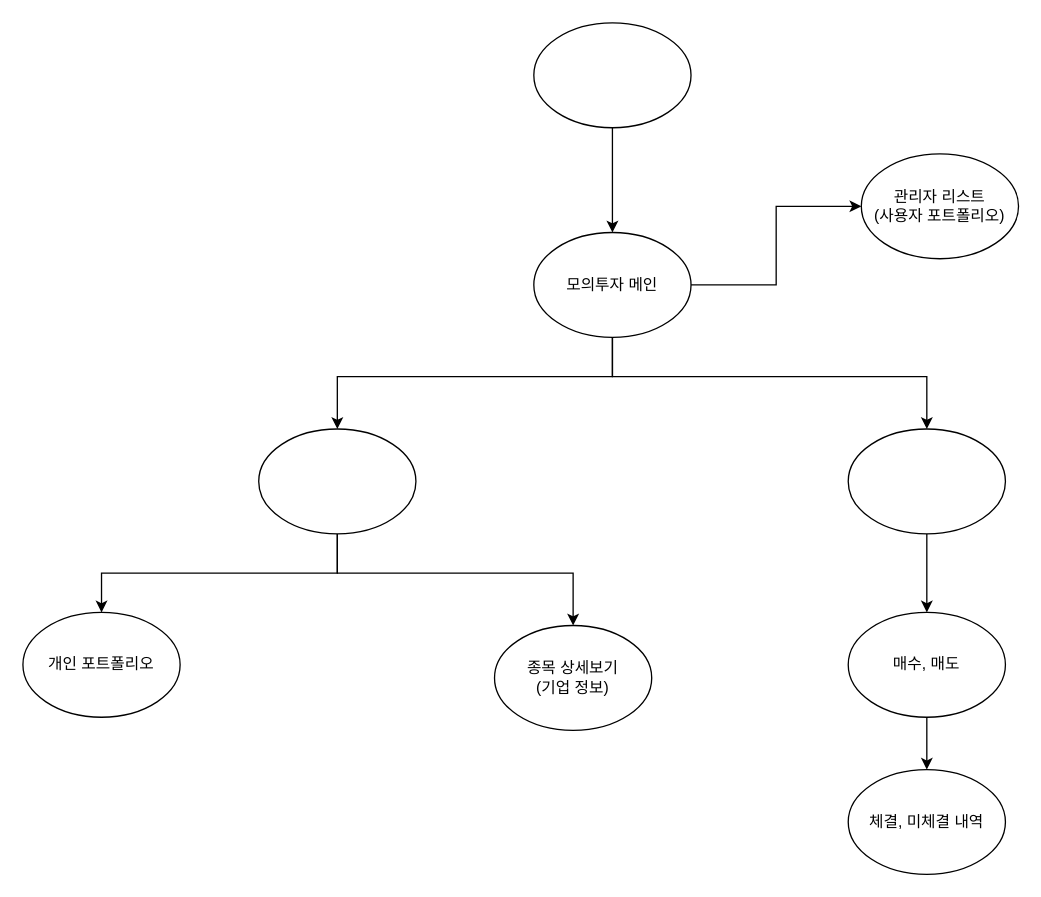
Some shapes in this 1041 by 897 pixel diagram are drawn without their labels. The shapes that lost their labels are listed below. From the top down, each one's centre as x and y in pixels, then its label:
[612,75]: 메인
[336,481]: 종목 리스트
[926,481]: 종목 차트
